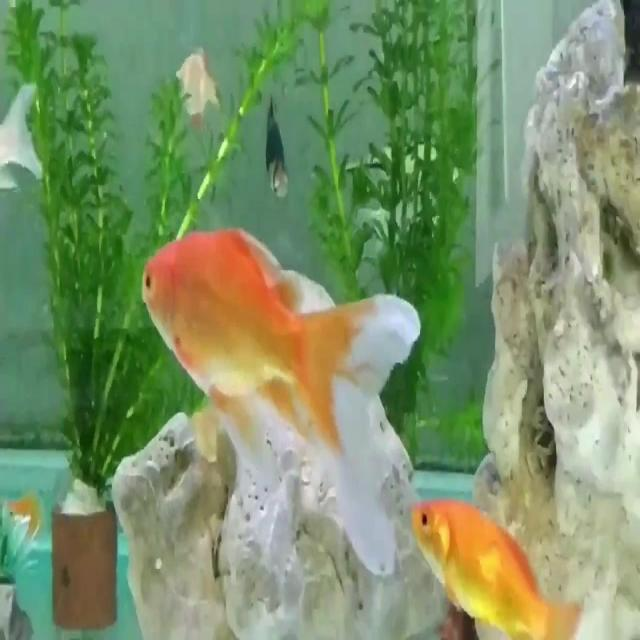GoldFish: (133, 224, 428, 603), (410, 477, 584, 640)
